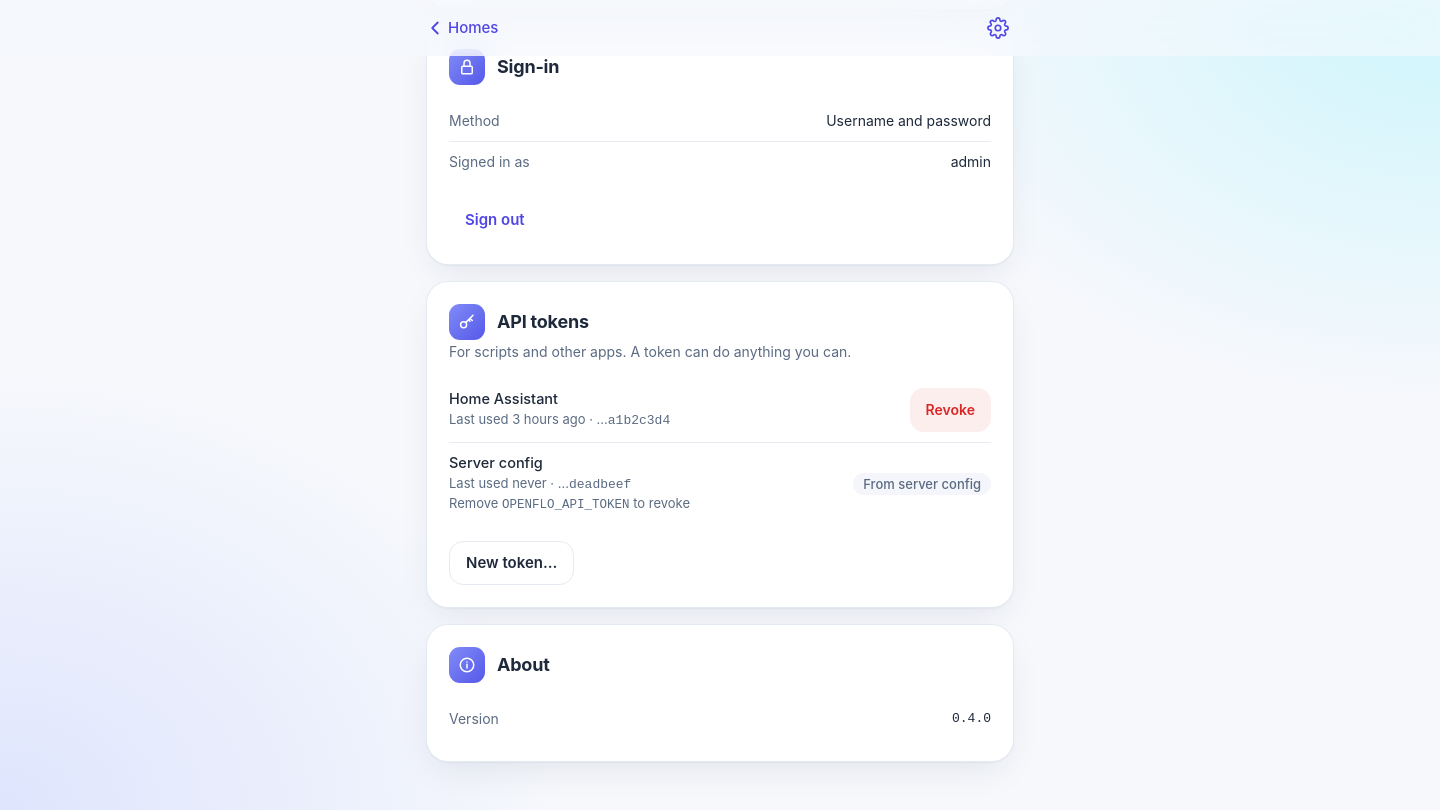
Settings → API tokens › lists tokens; revoke is two-step; the bootstrap token cannot be revoked here
(page scrolled)
Expected: the list item "Home Assistant Last used 3 hours ago · …a1b2c3d4 Revoke" is shown, [449,378,991,443]
Expected: the list item that starts with "Server config" shows "Last used never · …deadbeef", [449,443,991,525]
Click the button "Revoke" at x=950, y=410, box [910,388,991,432]
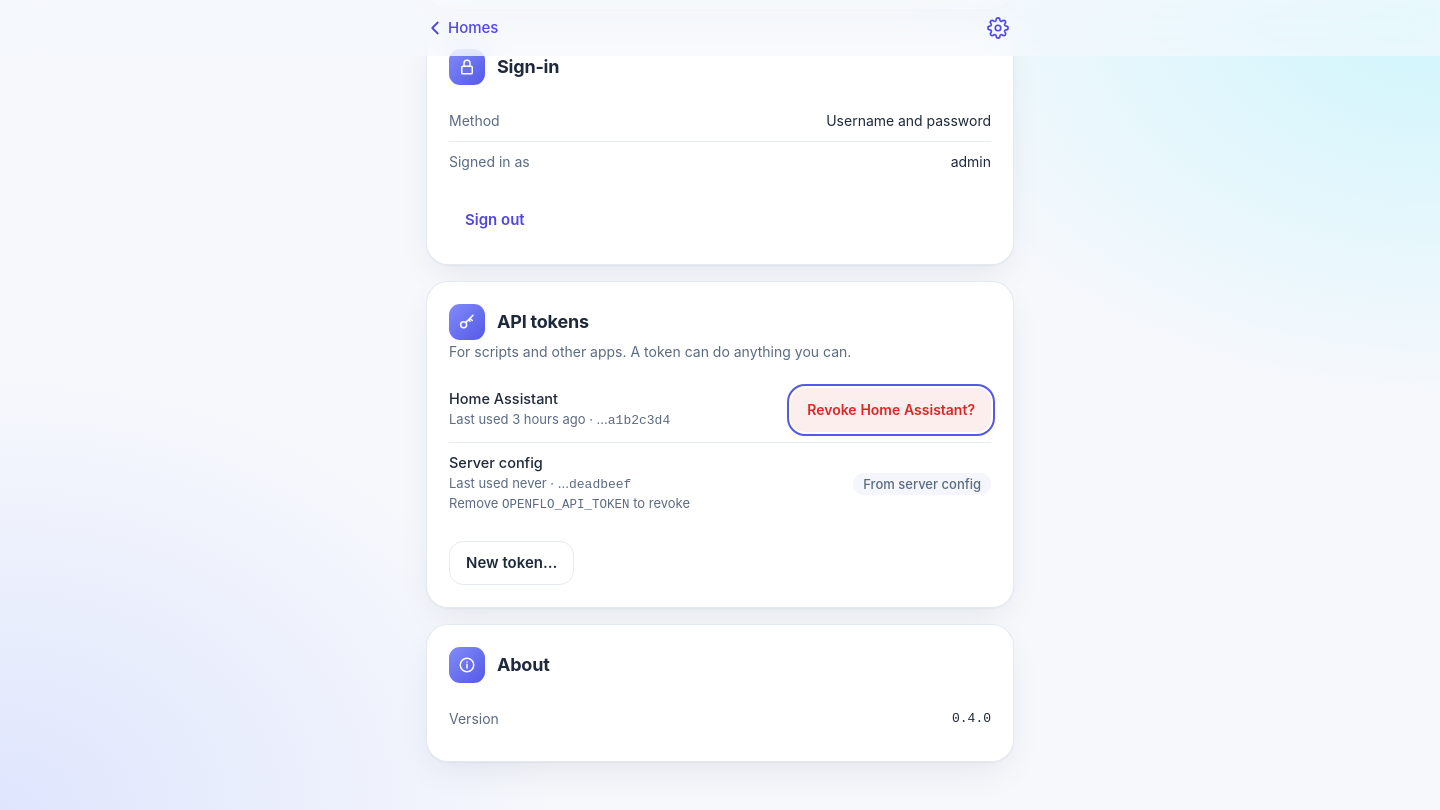
Click the button "Revoke Home Assistant?" at x=891, y=410, box [791,388,991,432]
(page scrolled)
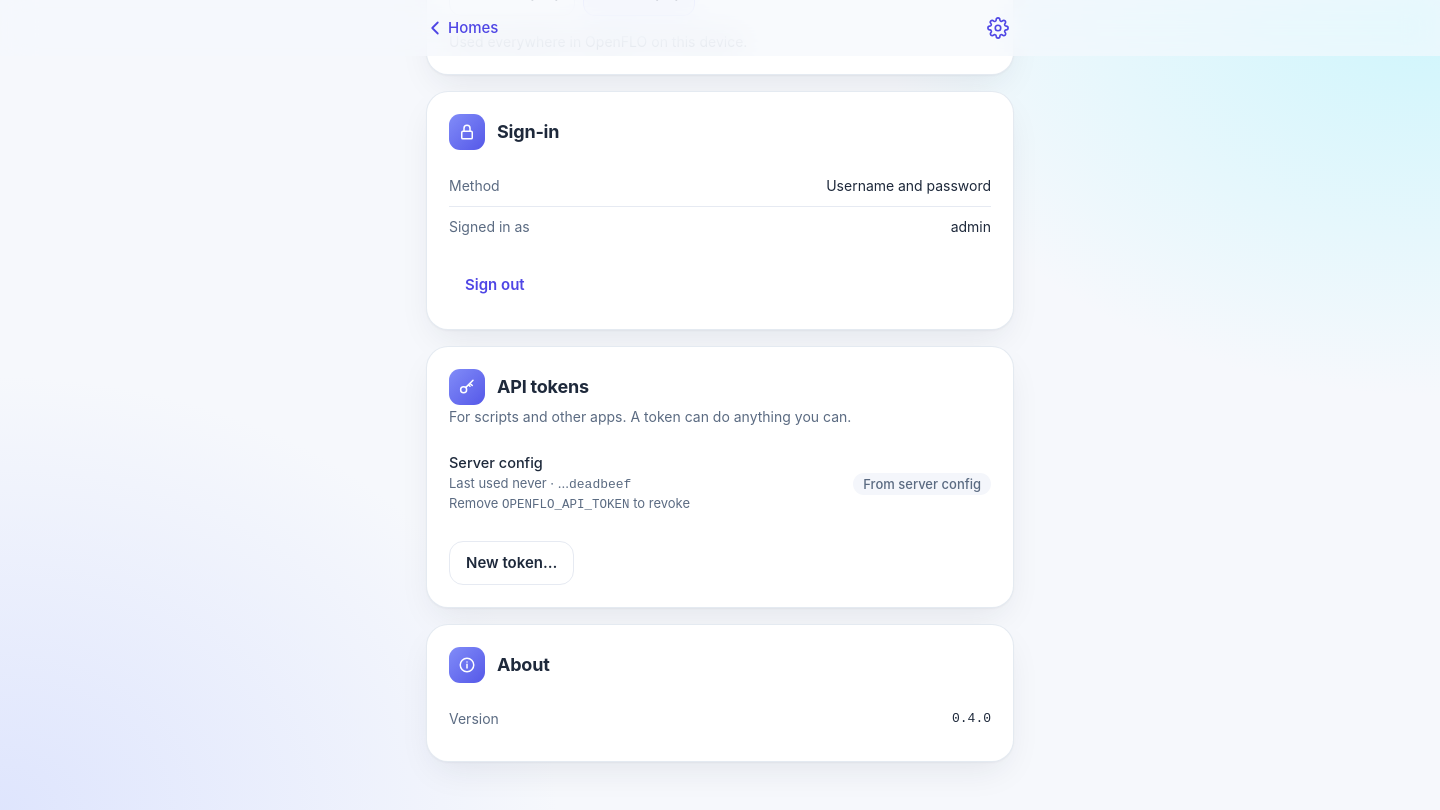
Result: the text "Home Assistant" is gone
